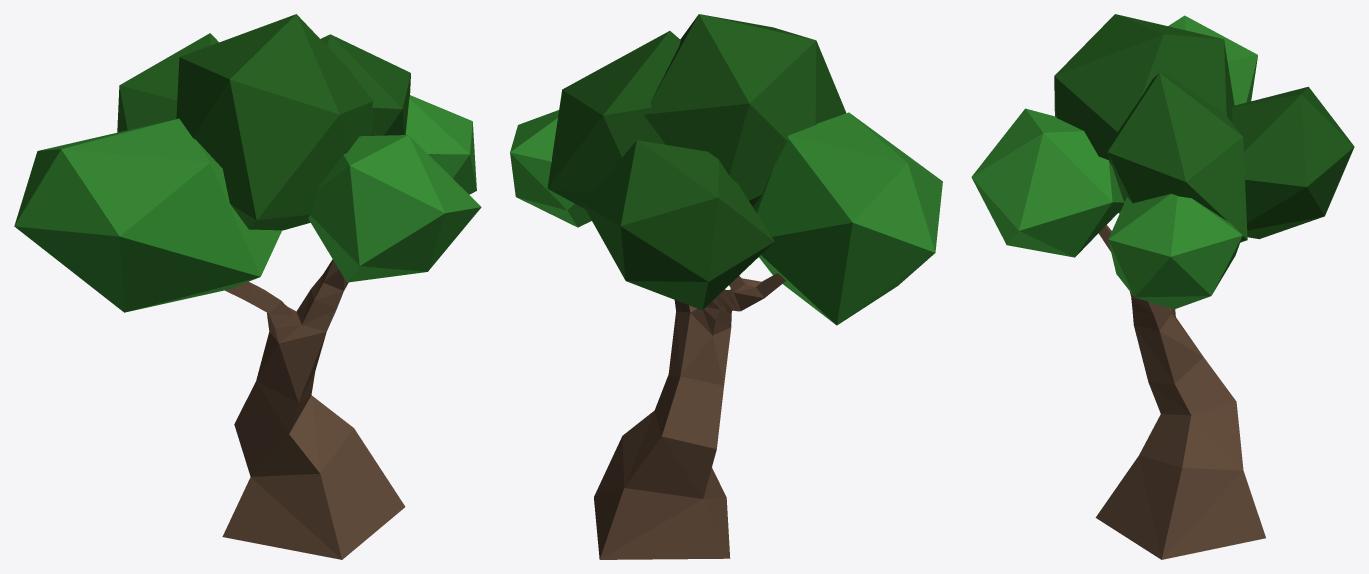
File: tree1.glb
3 renders of one model, left to right at view 1: azimuth 30°, elevation 25°; view 2: azimuth 150°, elevation 25°; view 3: azimuth 270°, elevation 25°, orthographic. The views are drawn at different scales.
Visible parts, largest first — view 1: Leaves, Trunk; view 2: Leaves, Trunk; view 3: Leaves, Trunk.
Part boxes in pixels (box(x1,y1,x2,y2)): Leaves: box(14, 14, 481, 312); Trunk: box(222, 259, 405, 559); Leaves: box(510, 14, 942, 325); Trunk: box(594, 273, 785, 559); Leaves: box(971, 14, 1354, 309); Trunk: box(1095, 225, 1265, 559).
Size of the model in its own units: 5.61 by 6.38 by 4.58.
